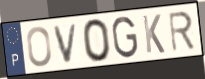G: (111, 15, 140, 60)
K: (141, 13, 167, 55)
O: (81, 17, 113, 64), (25, 25, 53, 69)
R: (167, 10, 197, 54)
V: (52, 21, 80, 65)
